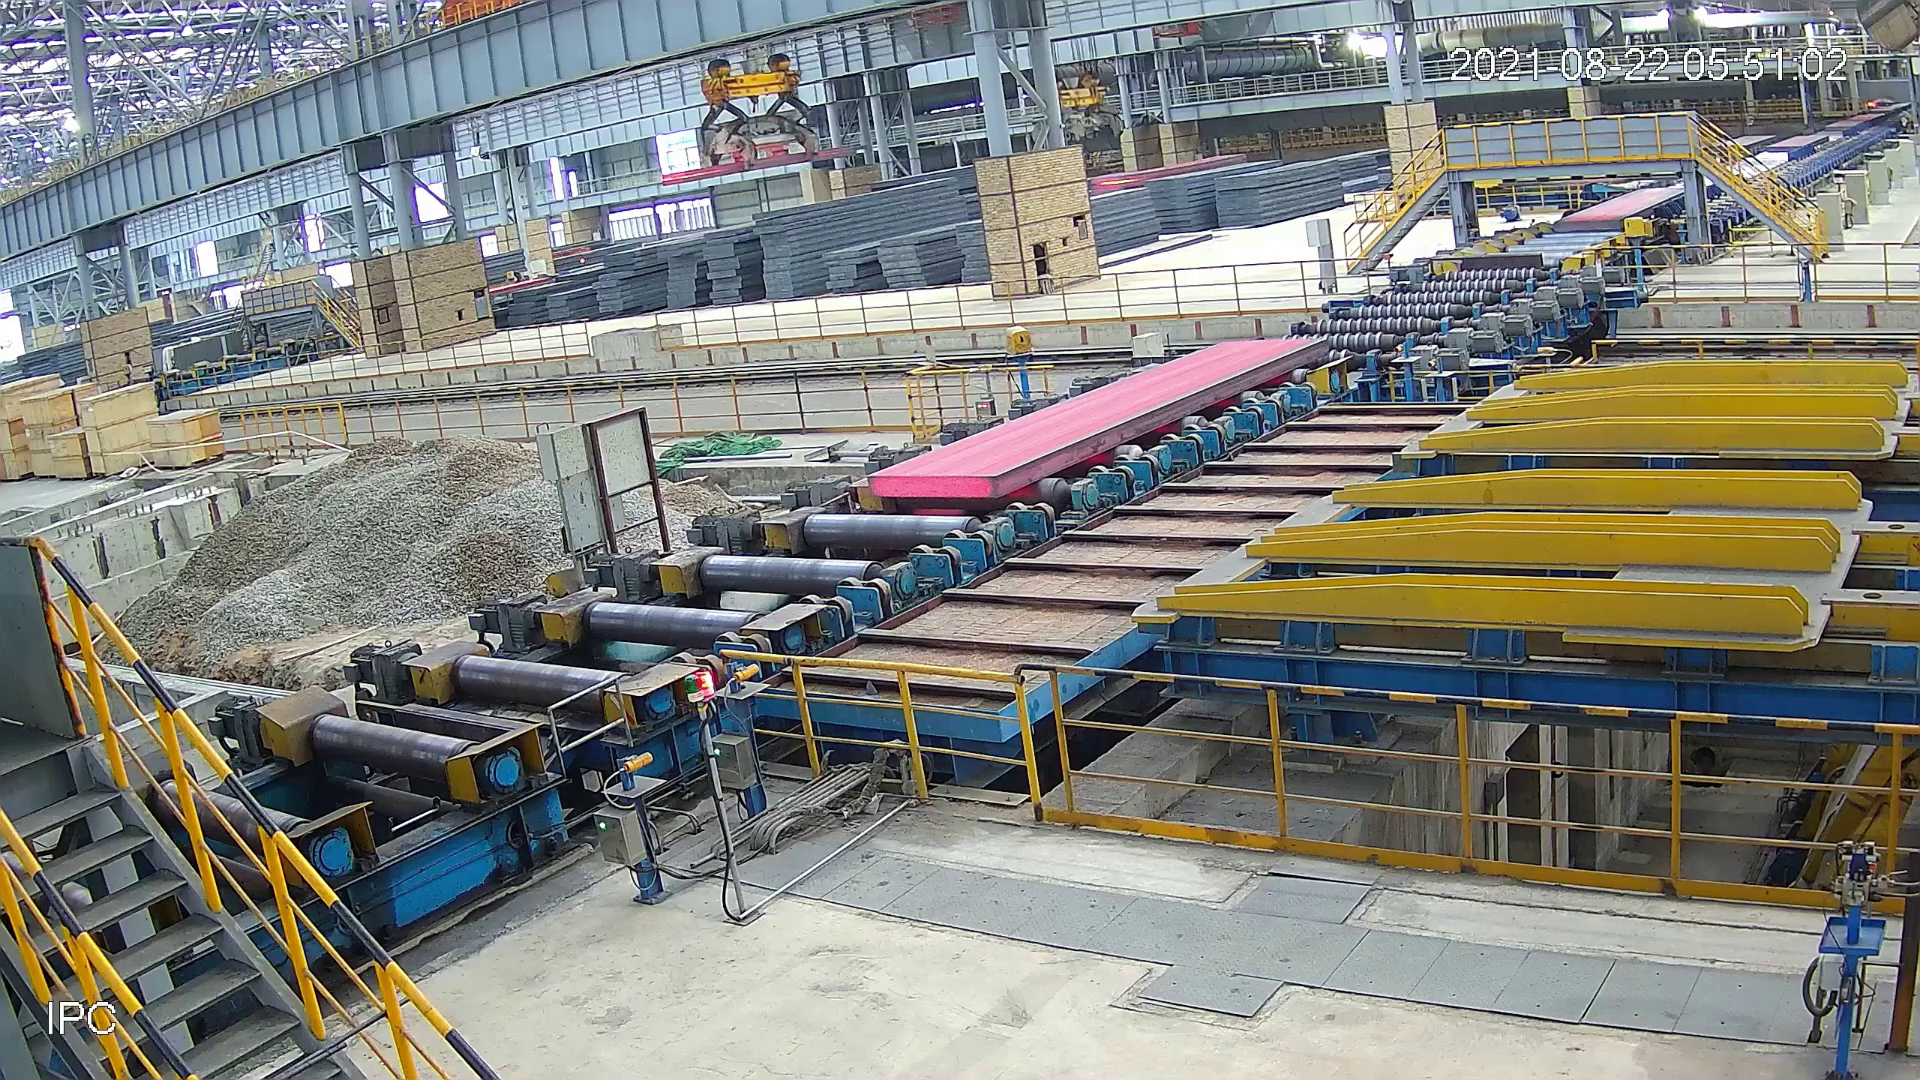craneandslab: (654, 49, 857, 199)
slab: (861, 330, 1333, 506), (1551, 175, 1692, 236)
